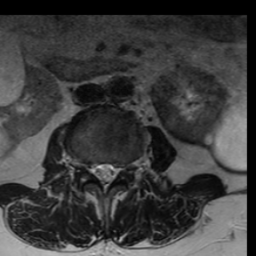CCS_normal: (99, 153, 108, 198)
LFS_stenosis: (120, 156, 128, 180)
LLS_normal: (109, 155, 119, 186)
RFS_stenosis: (80, 154, 91, 178)
RLS_normal: (90, 155, 99, 185)
